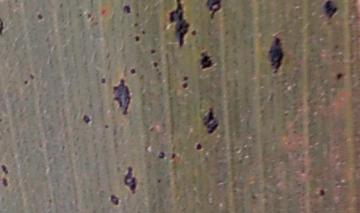tarspot: (166, 1, 190, 49), (264, 34, 287, 75), (111, 77, 134, 116), (200, 105, 219, 137), (122, 164, 139, 194), (198, 47, 215, 75), (203, 1, 224, 22), (321, 1, 340, 21), (146, 45, 160, 58), (109, 191, 121, 206), (81, 112, 93, 127), (121, 3, 133, 18), (1, 14, 9, 36), (33, 11, 47, 23), (316, 185, 328, 199), (155, 148, 166, 162), (150, 59, 162, 71), (194, 140, 204, 154), (168, 150, 179, 162), (97, 75, 109, 86), (132, 32, 143, 44), (180, 82, 191, 93), (1, 163, 11, 175), (126, 66, 138, 76), (334, 70, 344, 82), (21, 76, 31, 88), (1, 176, 10, 187), (154, 175, 163, 186), (191, 27, 199, 39), (102, 122, 111, 131), (181, 73, 190, 82)
